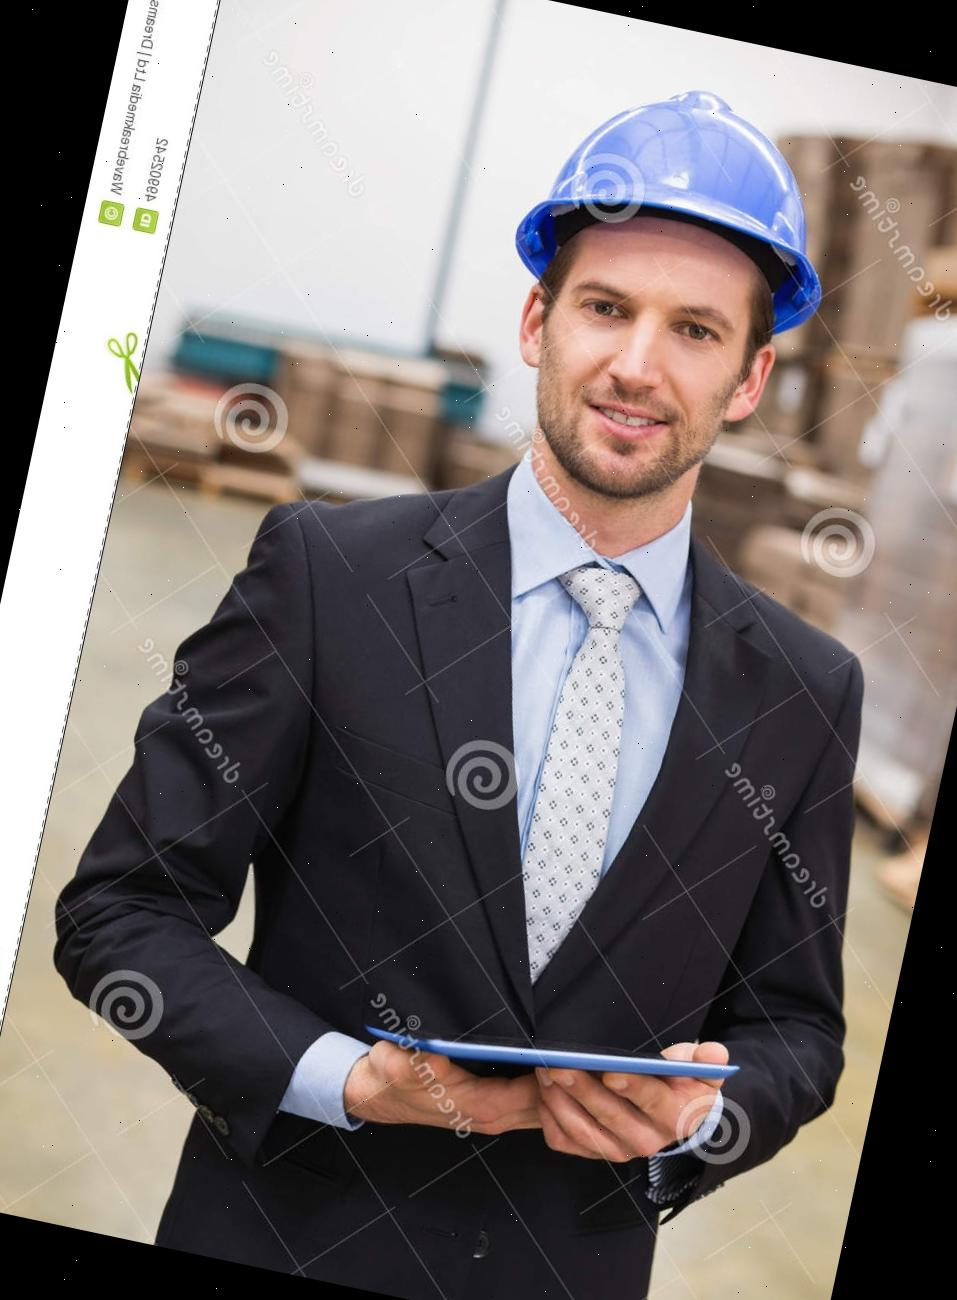helmet: (509, 60, 855, 327)
no_wear: (135, 488, 872, 1300)
